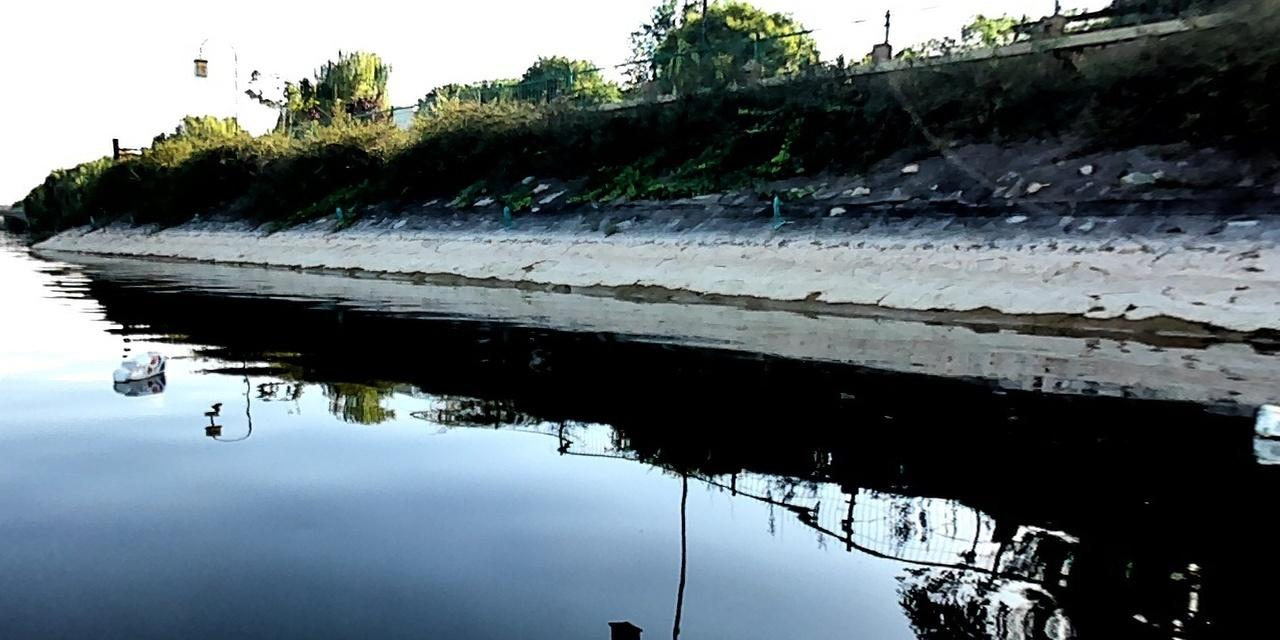bottle: (111, 347, 167, 382), (1251, 397, 1279, 439)
